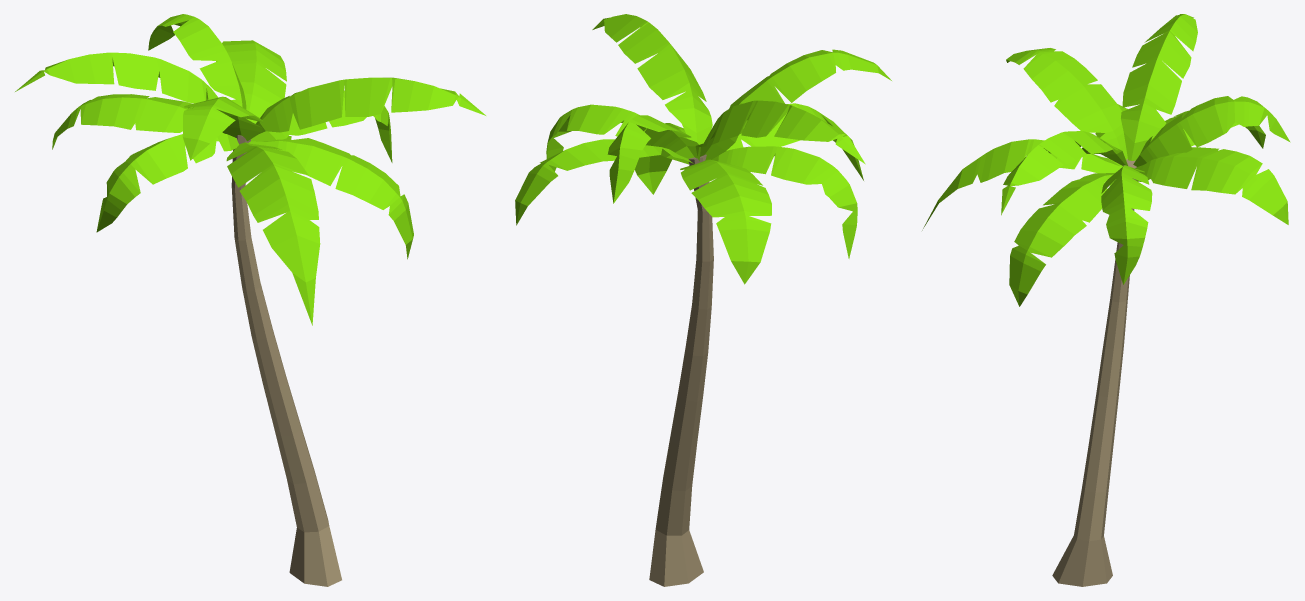
The model's file is palm01.fbx.
3 views of the same model, side by side, from view 1: azimuth 30°, elevation 25°; view 2: azimuth 150°, elevation 25°; view 3: azimuth 270°, elevation 25° (orthographic). The views are drawn at different scales.
Visible parts, largest first — view 1: palm.001; view 2: palm.001; view 3: palm.001.
Part boxes in pixels (<box>): palm.001: <box>15,14,485,586</box>; palm.001: <box>515,14,891,586</box>; palm.001: <box>922,14,1290,586</box>.
Bounding box in the file's own units: 245 × 333 × 234.
